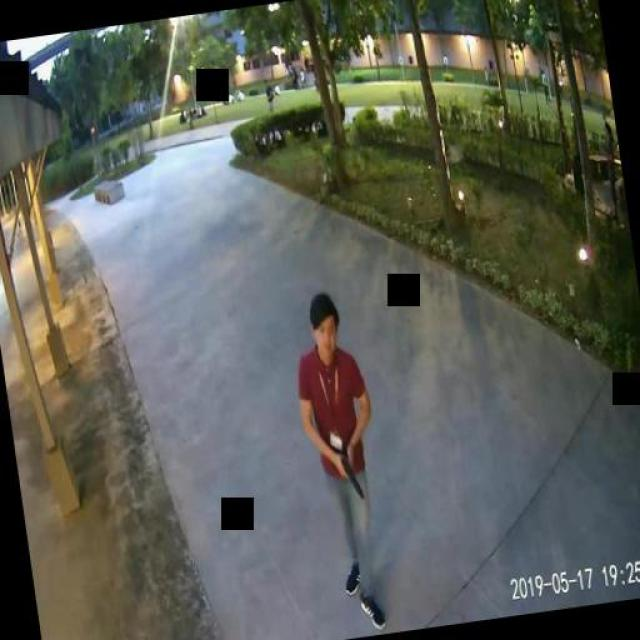gun: (337, 451, 362, 500)
